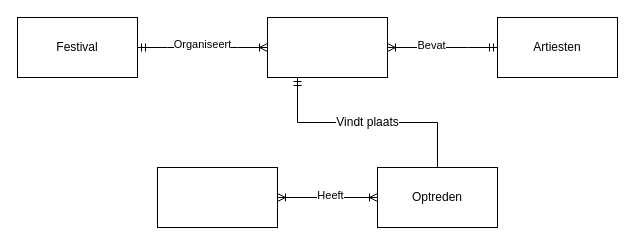
Image size: 635x245. Some labels were removed from this diagram. Each missing label, with the centre of its shape:
"Podium" goes at (327,47).
"Technici" goes at (217,197).
